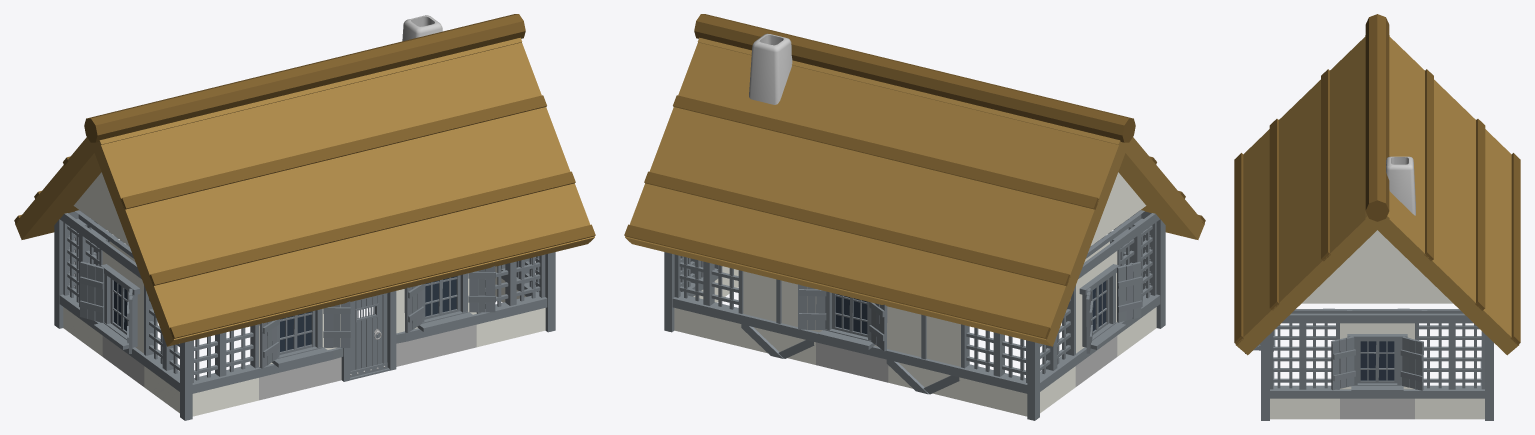
File: farmhouse.gltf
The picture shows the model from 3 angles, left to right: view 1: azimuth 30°, elevation 25°; view 2: azimuth 150°, elevation 25°; view 3: azimuth 270°, elevation 25°; orthographic projection. The views are drawn at different scales.
Parts seen in each view (by area): view 1: RoofSlab.033, RidgeRoll.043, RoofSlab.037, Course.035, Course.036, Course.034, Wall_Plaster_WoodGrid.001, Wall_Plaster_WoodGrid.011, Wall_Plaster_WoodGrid.019, Door_8_Flat.007, Wall_Plaster_WoodGrid.023, Wall_Plaster_Window_Wide_Flat.020 (+17 smaller); view 2: RoofSlab.037, RidgeRoll.043, RoofSlab.033, Wall_Plaster_Straight.017, Course.039, Course.040, Course.038, Wall_Plaster_Straight.013, Wall_Plaster_WoodGrid.012, Wall_Plaster_WoodGrid.018, Wall_Plaster_WoodGrid.023, Wall_Plaster_WoodGrid.019 (+13 smaller); view 3: RoofSlab.033, RoofSlab.037, Gable.041, Wall_Plaster_WoodGrid.024, Wall_Plaster_WoodGrid.028, RidgeRoll.043, Wall_Plaster_Window_Wide_Flat.025, Window_Wide_Flat1.026, WindowShutters_Wide_Flat_Open.027, Course.039, Course.040, Course.036 (+6 smaller).
Boxes of the visible parts, x1=… form: RoofSlab.033: x1=91, y1=42, x2=594, y2=346; RidgeRoll.043: x1=84, y1=14, x2=525, y2=142; RoofSlab.037: x1=15, y1=37, x2=522, y2=239; Course.035: x1=149, y1=171, x2=575, y2=285; Course.036: x1=169, y1=224, x2=595, y2=339; Course.034: x1=120, y1=95, x2=546, y2=209; Wall_Plaster_WoodGrid.001: x1=192, y1=324, x2=260, y2=416; Wall_Plaster_WoodGrid.011: x1=476, y1=254, x2=547, y2=347; Wall_Plaster_WoodGrid.019: x1=59, y1=210, x2=113, y2=356; Door_8_Flat.007: x1=350, y1=293, x2=387, y2=377; Wall_Plaster_WoodGrid.023: x1=141, y1=277, x2=194, y2=413; Wall_Plaster_Window_Wide_Flat.020: x1=99, y1=236, x2=144, y2=386; RoofSlab.037: x1=625, y1=42, x2=1125, y2=346; RidgeRoll.043: x1=694, y1=14, x2=1135, y2=142; RoofSlab.033: x1=697, y1=37, x2=1204, y2=239; Wall_Plaster_Straight.017: x1=886, y1=306, x2=960, y2=400; Course.039: x1=644, y1=171, x2=1070, y2=286; Course.040: x1=624, y1=224, x2=1050, y2=339; Course.038: x1=673, y1=95, x2=1098, y2=209; Wall_Plaster_Straight.013: x1=741, y1=271, x2=815, y2=364; Wall_Plaster_WoodGrid.012: x1=672, y1=254, x2=743, y2=347; Wall_Plaster_WoodGrid.018: x1=959, y1=324, x2=1027, y2=416; Wall_Plaster_WoodGrid.023: x1=1106, y1=210, x2=1160, y2=356; Wall_Plaster_WoodGrid.019: x1=1026, y1=277, x2=1078, y2=413; RoofSlab.033: x1=1235, y1=35, x2=1389, y2=355; RoofSlab.037: x1=1365, y1=35, x2=1519, y2=355; Gable.041: x1=1302, y1=230, x2=1452, y2=303; Wall_Plaster_WoodGrid.024: x1=1270, y1=308, x2=1339, y2=419; Wall_Plaster_WoodGrid.028: x1=1415, y1=309, x2=1484, y2=419; RidgeRoll.043: x1=1365, y1=14, x2=1389, y2=221; Wall_Plaster_Window_Wide_Flat.025: x1=1340, y1=308, x2=1414, y2=419; Window_Wide_Flat1.026: x1=1347, y1=334, x2=1407, y2=393; WindowShutters_Wide_Flat_Open.027: x1=1331, y1=336, x2=1423, y2=390; Course.039: x1=1475, y1=119, x2=1485, y2=310; Course.040: x1=1510, y1=153, x2=1520, y2=344; Course.036: x1=1234, y1=153, x2=1243, y2=344.
Bounding box in the file's own units: 11.8 × 6.99 × 7.67.
